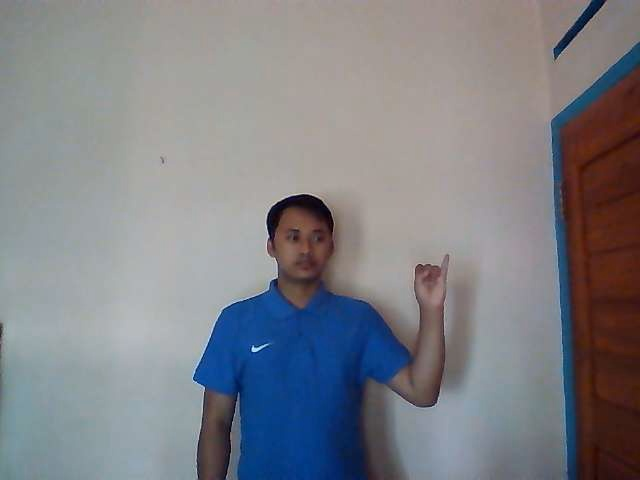I: (412, 253, 451, 307)
